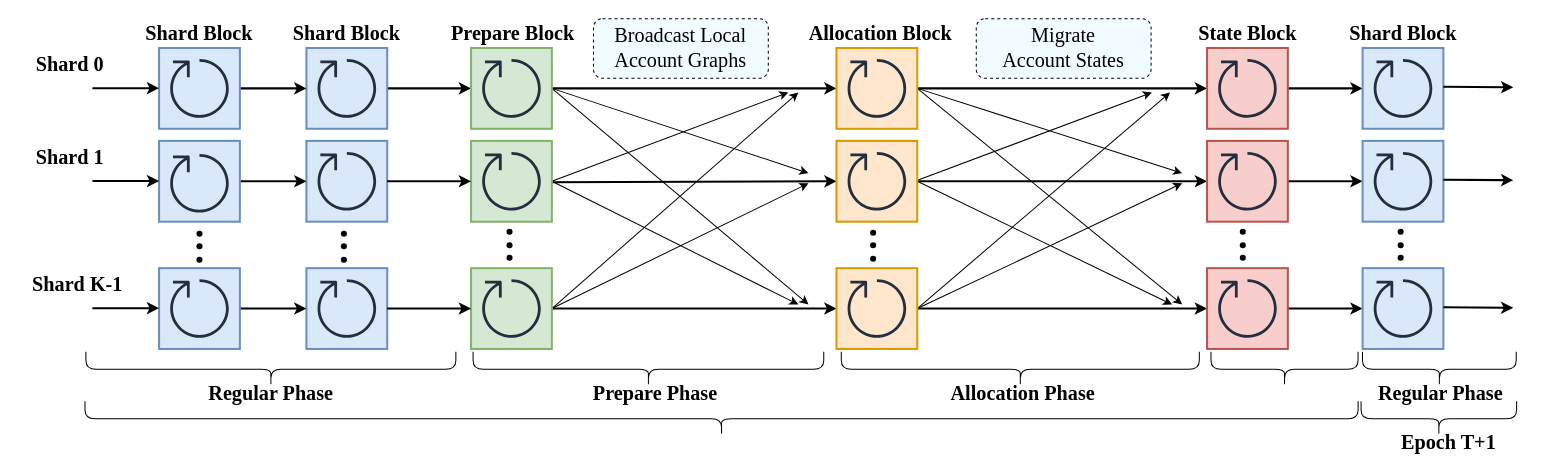
Image size: 1555x474. Some labels were removed from this diagram. Here are the shapes that lost their labels. From the top down, the centre of each, then its label:
At point 1284,369: "State Phase".
At point 721,418: "Epoch T".
